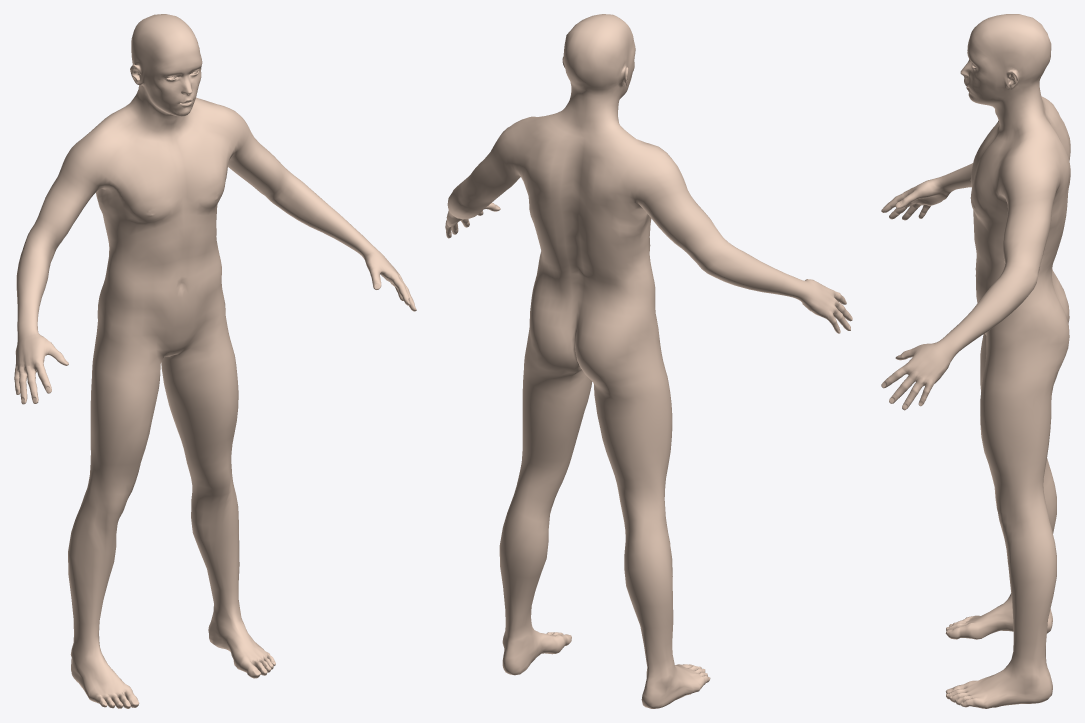
The model's file is Human_BlendShapes.fbx.
3 views of the same model, side by side, from view 1: azimuth 30°, elevation 25°; view 2: azimuth 150°, elevation 25°; view 3: azimuth 270°, elevation 25° (orthographic).
Parts seen in each view (by area): view 1: HumanTest_BlendShapes; view 2: HumanTest_BlendShapes; view 3: HumanTest_BlendShapes.
Part boxes in pixels (x1,y1,x2,y2): HumanTest_BlendShapes: (14,14,416,708); HumanTest_BlendShapes: (445,14,852,708); HumanTest_BlendShapes: (881,14,1070,708).
Bounding box in the file's own units: 120 × 190 × 50.23.
